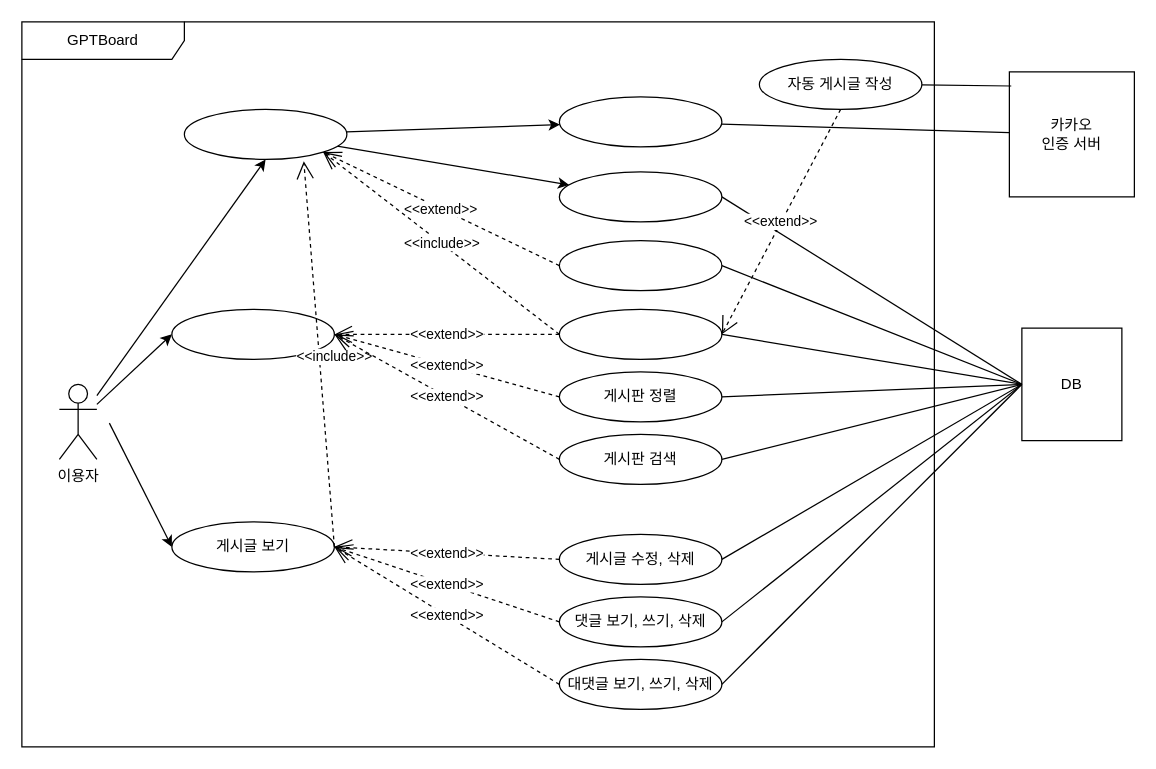
The diagram is 1156 pixels wide and 769 high, and some of its shapes have lost their labels. Each missing label, with the box of its shape:
DB 인증: (558, 171, 722, 222)
게시글 쓰기: (558, 308, 722, 359)
게시판 보기: (171, 308, 334, 359)
로그인: (183, 108, 347, 159)
로그인 실패: (558, 239, 722, 291)
카카오 인증: (558, 96, 722, 147)
